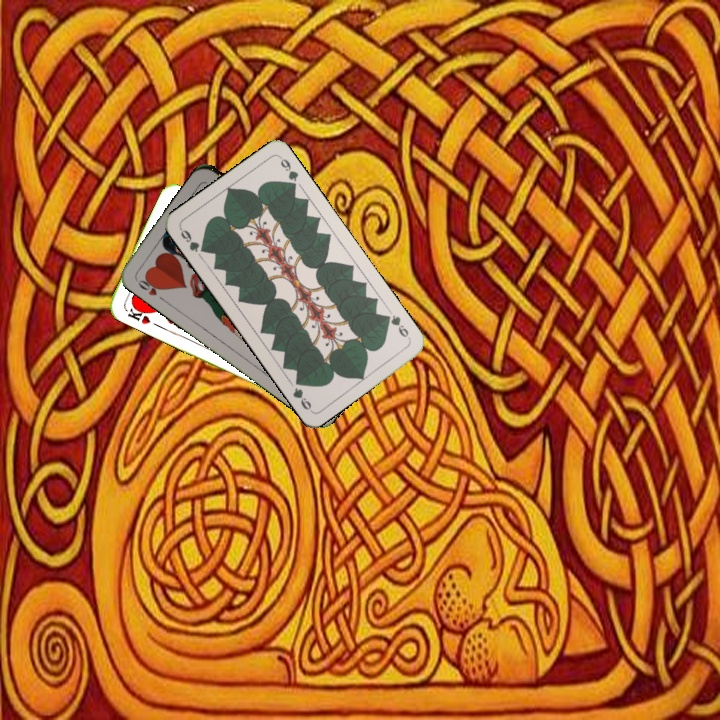G9: (176, 224, 209, 256), (380, 311, 413, 342)
HK: (124, 301, 153, 327)
HO: (132, 272, 168, 304)
